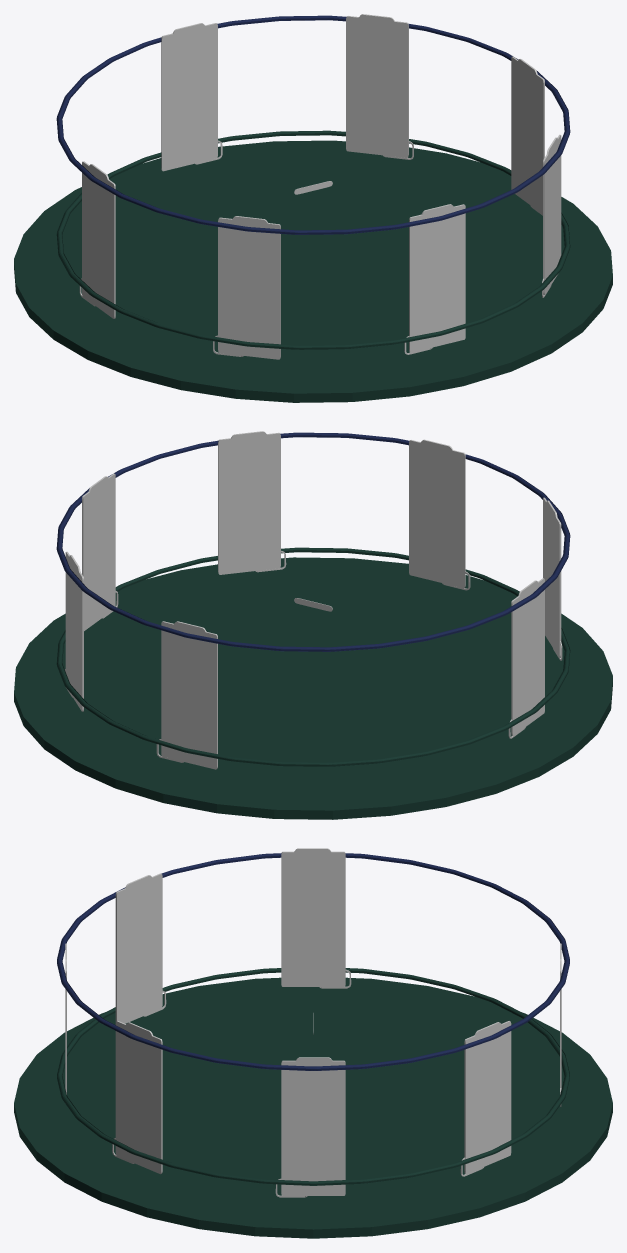
Rendered from interface.gltf.
3 renders of one model, top to bottom at view 1: azimuth 30°, elevation 25°; view 2: azimuth 150°, elevation 25°; view 3: azimuth 270°, elevation 25°, orthographic.
Visible parts, largest first — view 1: Cylinder, Cube.002, Cube.006, Cube, Cube.005, Circle, Circle.001, Cube.003, Cube.007, Cube.004; view 2: Cylinder, Cube.004, Cube.005, Cube, Circle, Circle.001, Cube.003, Cube.007, Cube.006, Cube.002; view 3: Cylinder, Cube.007, Cube.003, Cube.006, Cube.002, Cube.004, Circle, Circle.001.
Part boxes in pixels (x1=…): Cylinder: x1=14, y1=140, x2=612, y2=402; Cube.002: x1=346, y1=14, x2=413, y2=159; Cube.006: x1=213, y1=216, x2=280, y2=359; Cube: x1=161, y1=23, x2=222, y2=171; Cube.005: x1=404, y1=204, x2=465, y2=354; Circle: x1=56, y1=15, x2=570, y2=234; Circle.001: x1=56, y1=130, x2=570, y2=349; Cube.003: x1=511, y1=56, x2=544, y2=215; Cube.007: x1=79, y1=161, x2=115, y2=318; Cube.004: x1=542, y1=134, x2=561, y2=297; Cylinder: x1=14, y1=557, x2=612, y2=819; Cube.004: x1=218, y1=431, x2=286, y2=574; Cube.005: x1=409, y1=439, x2=470, y2=590; Cube: x1=156, y1=621, x2=217, y2=769; Circle: x1=56, y1=432, x2=570, y2=651; Circle.001: x1=56, y1=547, x2=570, y2=766; Cube.003: x1=82, y1=473, x2=118, y2=630; Cube.007: x1=508, y1=578, x2=544, y2=738; Cube.006: x1=543, y1=497, x2=562, y2=660; Cube.002: x1=65, y1=551, x2=83, y2=711; Cylinder: x1=14, y1=977, x2=612, y2=1238; Cube.007: x1=281, y1=848, x2=351, y2=988; Cube.003: x1=275, y1=1057, x2=345, y2=1197; Cube.006: x1=115, y1=873, x2=166, y2=1023; Cube.002: x1=460, y1=1021, x2=511, y2=1176; Cube.004: x1=112, y1=1021, x2=162, y2=1174; Circle: x1=57, y1=853, x2=569, y2=1070; Circle.001: x1=57, y1=968, x2=569, y2=1185.
Size of the model in its own units: 9.69 by 2.84 by 9.69.
